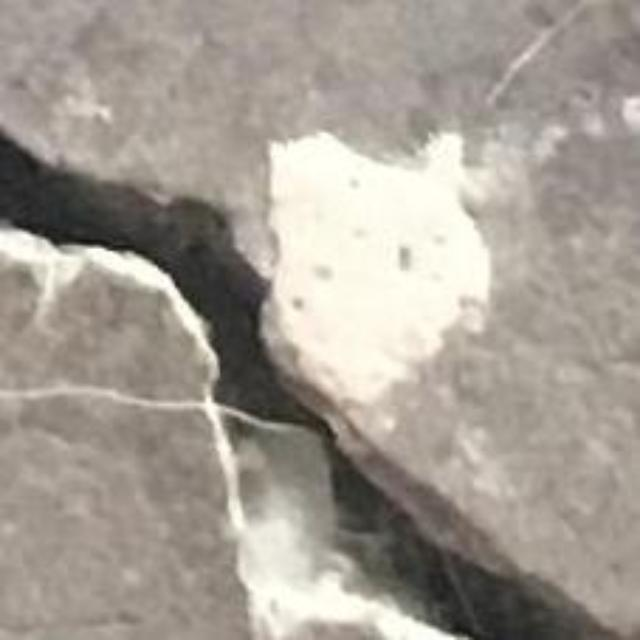crack: (0, 136, 606, 639)
peeling plaster: (263, 96, 639, 408)
